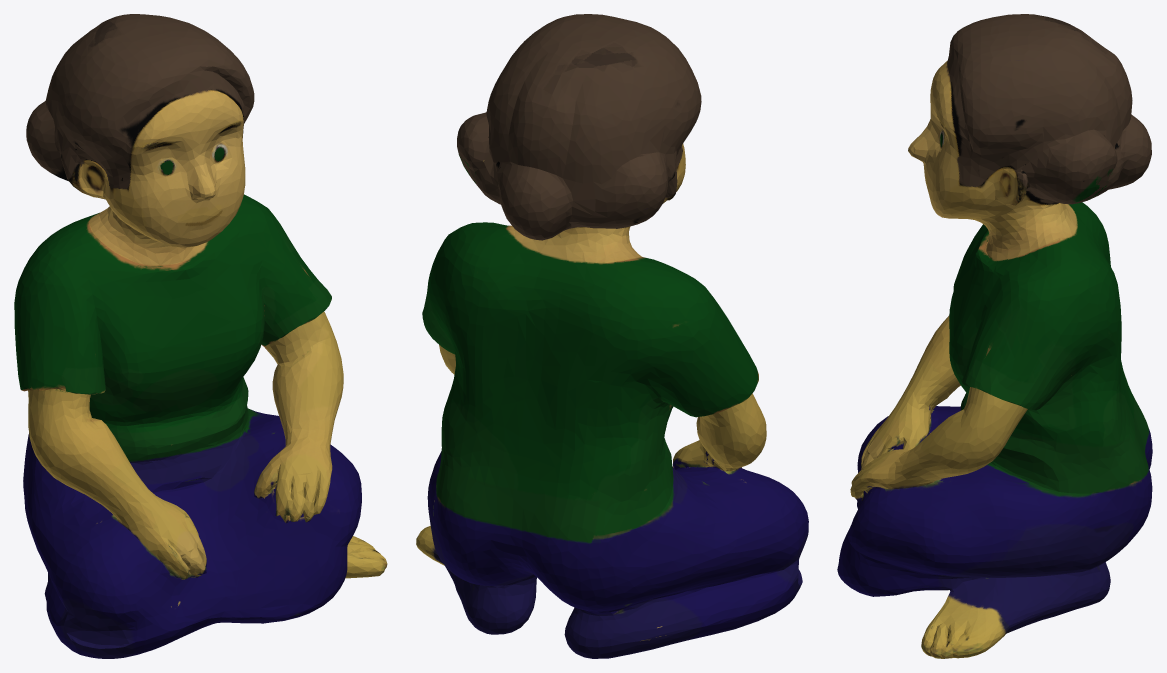
File: viewer_3.glb
The picture shows the model from 3 angles, left to right: view 1: azimuth 30°, elevation 25°; view 2: azimuth 150°, elevation 25°; view 3: azimuth 270°, elevation 25°; orthographic projection. The views are drawn at different scales.
Visible parts, largest first — view 1: world.001; view 2: world.001; view 3: world.001.
Boxes of the visible parts, x1,y1,x2,y2 form: world.001: (14, 14, 387, 658); world.001: (416, 14, 808, 658); world.001: (837, 14, 1152, 658).
Bounding box in the file's own units: 0.6286 × 0.9995 × 0.5259.
Materials: 1 (1 with a texture image).
